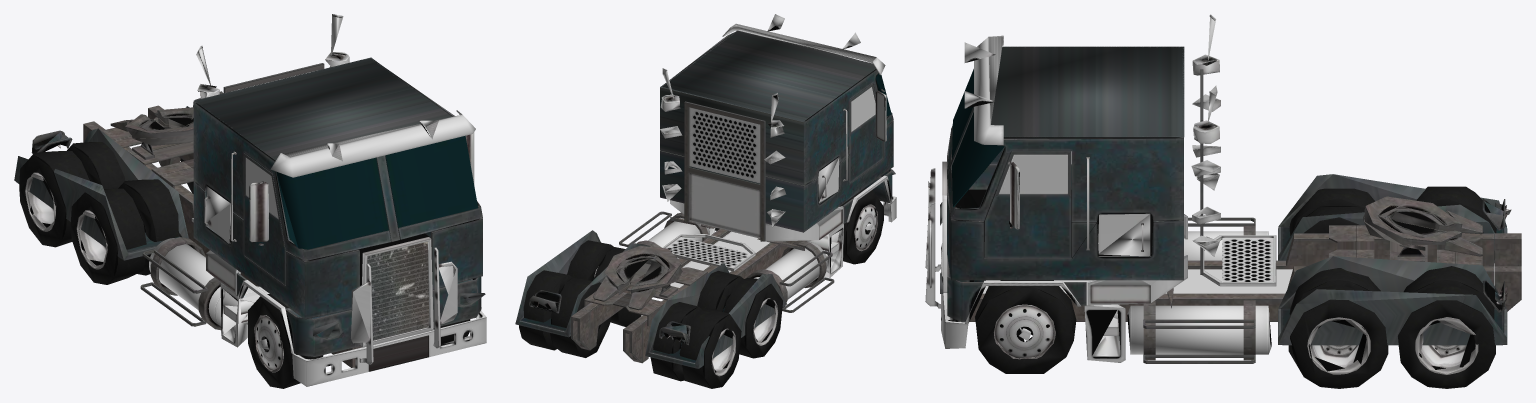
File: semi-cab.zfix-v14.lod0.glb
The picture shows the model from 3 angles, left to right: view 1: azimuth 30°, elevation 25°; view 2: azimuth 150°, elevation 25°; view 3: azimuth 270°, elevation 25°; orthographic projection. The views are drawn at different scales.
Parts seen in each view (by area): view 1: truck_main_body_truck_main_body_baked_0, chrome_pieces_truck_chrome_pieces_baked_0, rear_wheel_set_1_R_truck_wheels_baked_0; view 2: truck_main_body_truck_main_body_baked_0, chrome_pieces_truck_chrome_pieces_baked_0, rear_wheel_set_1_R_truck_wheels_baked_0; view 3: truck_main_body_truck_main_body_baked_0, chrome_pieces_truck_chrome_pieces_baked_0, rear_wheel_set_1_R_truck_wheels_baked_0.
Boxes of the visible parts, x1,y1,x2,y2 form: truck_main_body_truck_main_body_baked_0: (14, 57, 485, 367); chrome_pieces_truck_chrome_pieces_baked_0: (149, 14, 486, 386); rear_wheel_set_1_R_truck_wheels_baked_0: (19, 142, 470, 388); truck_main_body_truck_main_body_baked_0: (515, 30, 895, 368); chrome_pieces_truck_chrome_pieces_baked_0: (648, 14, 896, 299); rear_wheel_set_1_R_truck_wheels_baked_0: (519, 188, 883, 388); truck_main_body_truck_main_body_baked_0: (940, 46, 1521, 363); chrome_pieces_truck_chrome_pieces_baked_0: (925, 14, 1292, 362); rear_wheel_set_1_R_truck_wheels_baked_0: (975, 186, 1496, 388).
Size of the model in its own units: 3.51 by 3.89 by 7.39.
3 materials, 3 textured.
